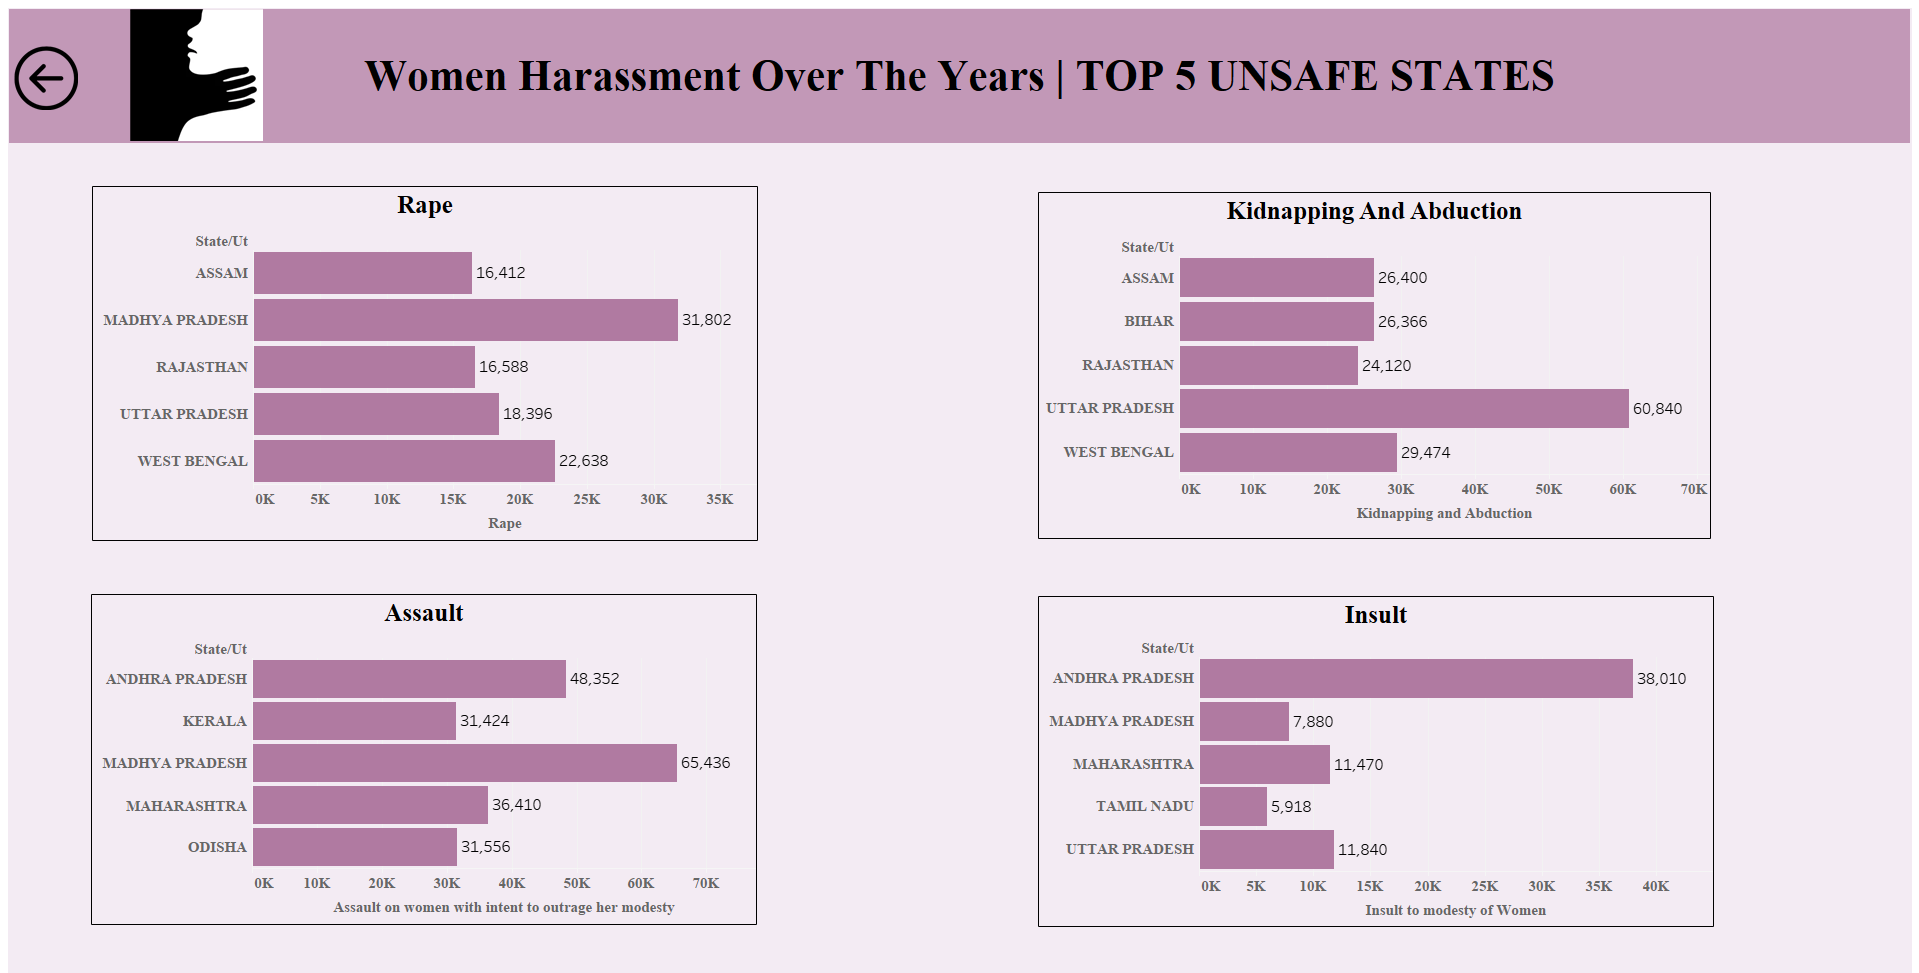

Layout of this report page (visuals, bound fields, positions):
{"tool":"tableau","page":{"name":"Top 5 Unsafe State","canvas":[1000,1000],"units":"permille","ordinal":3},"visuals":[{"type":"text","box":[4.7,8.7,990,134.8]},{"type":"image","param":"Image/hand-strangling-choking-neck-victim-250nw-2280695547.jpg","box":[55,8.7,94.5,133.6]},{"type":"worksheet","title":"Rape 1","mark":"Bar","rows":["STATE/UT"],"cols":["Rape"],"box":[47.9,187.3,346.9,357.1]},{"type":"worksheet","title":"kidnapping","mark":"Bar","rows":["STATE/UT"],"cols":["Kidnapping and Abduction"],"box":[540.7,193.5,350.5,349.6]},{"type":"worksheet","title":"Assault 1","mark":"Bar","rows":["STATE/UT"],"cols":["Assault on women with intent to outrage her modesty"],"box":[47.2,598,346.9,333.3]},{"type":"worksheet","title":"Insult","mark":"Bar","rows":["STATE/UT"],"cols":["Insult to modesty of Women"],"box":[540.7,600.5,352.3,333.3]}]}

Visuals, with their boxes on the dashboard's canvas, which has no fixed pixel size, in thousandths of its width and height (x1, y1, x2, y2). These are canvas units, not pixel positions in the 1919x973 screenshot, which may show the page scaled, cropped or inside an application window:
text: crop(5, 9, 995, 144)
image: crop(55, 9, 150, 142)
"Rape 1" worksheet (Bar marks): crop(48, 187, 395, 544)
"kidnapping" worksheet (Bar marks): crop(541, 194, 891, 543)
"Assault 1" worksheet (Bar marks): crop(47, 598, 394, 931)
"Insult" worksheet (Bar marks): crop(541, 600, 893, 934)
